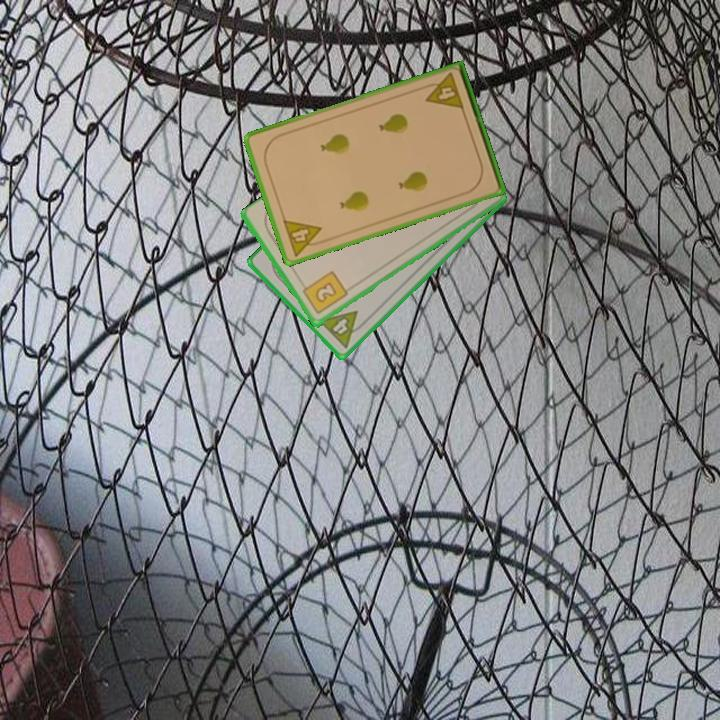2b: (297, 268, 350, 318)
4p: (315, 307, 370, 351), (419, 69, 467, 113), (279, 216, 328, 259)
